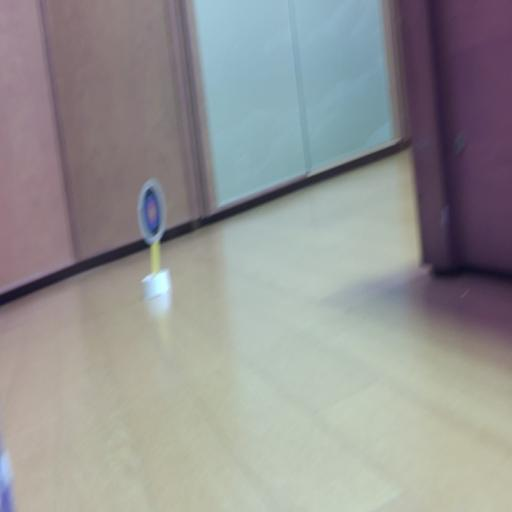target: (138, 178, 166, 246)
